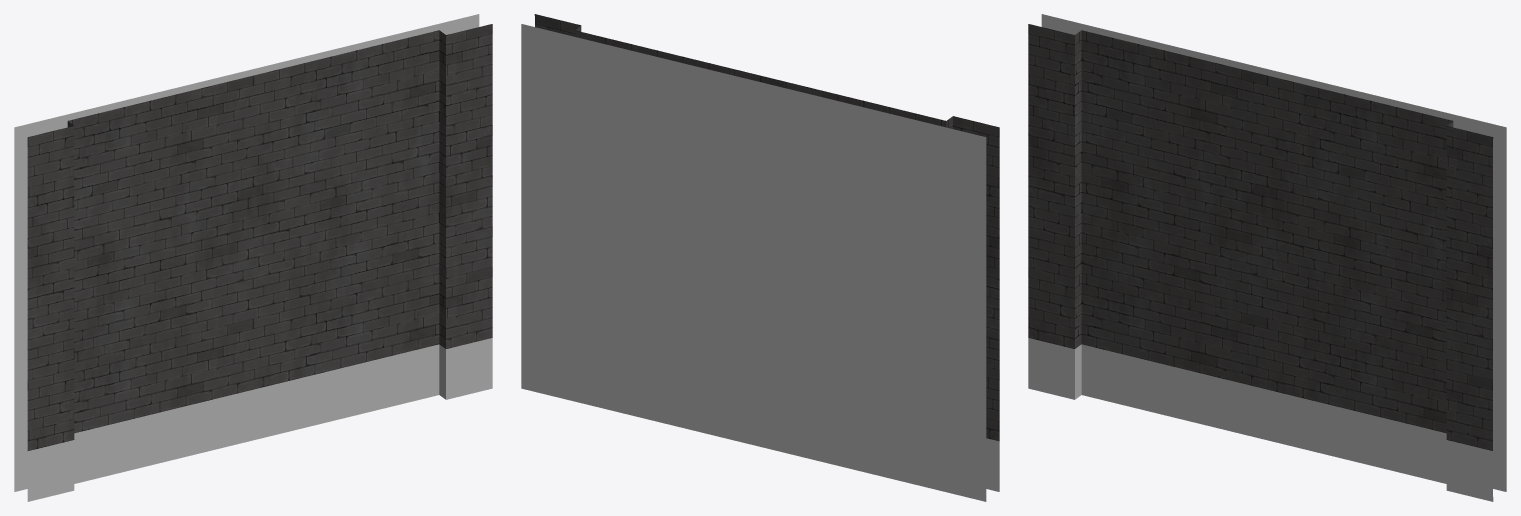
Rendered from WornBrick_Bottom.gltf.
3 renders of one model, left to right at view 1: azimuth 30°, elevation 25°; view 2: azimuth 150°, elevation 25°; view 3: azimuth 330°, elevation 25°, orthographic.
Parts seen in each view (by area): view 1: WornBrick_Bottom; view 2: WornBrick_Bottom; view 3: WornBrick_Bottom.
Boxes of the visible parts, x1,y1,x2,y2 form: WornBrick_Bottom: (14, 14, 492, 501); WornBrick_Bottom: (521, 14, 999, 501); WornBrick_Bottom: (1028, 14, 1506, 501).
Size of what is drawn, in the model's own units: 4 by 3 by 0.2.
